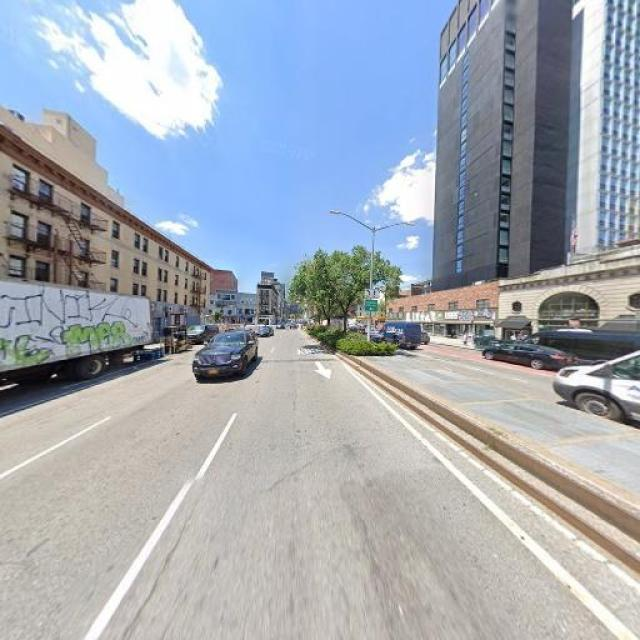Building: (1, 130, 212, 355), (498, 250, 640, 360), (388, 280, 494, 344)
